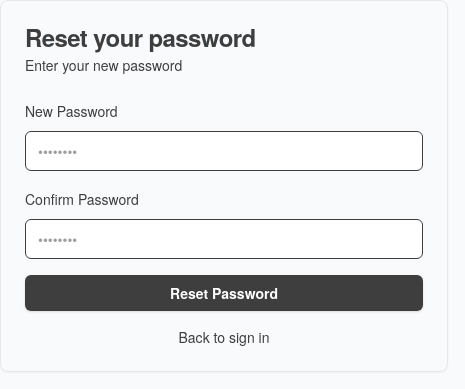
Test: ResetPasswordForm Component › Form Submission › should show loading state during submission
This screenshot has width=465, height=389.
Type "Password123" into the password field labelled "New Password" at {"x": 224, "y": 151}, box [25,131,423,171]
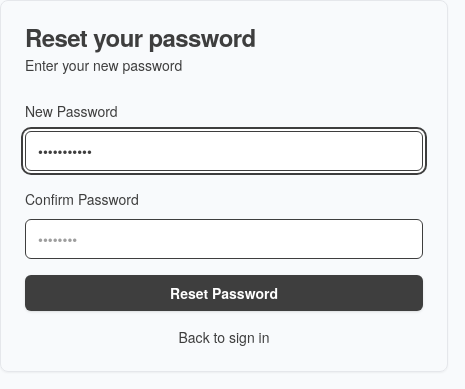
Type "Password123" into the password field labelled "Confirm Password" at {"x": 224, "y": 239}, box [25,219,423,259]
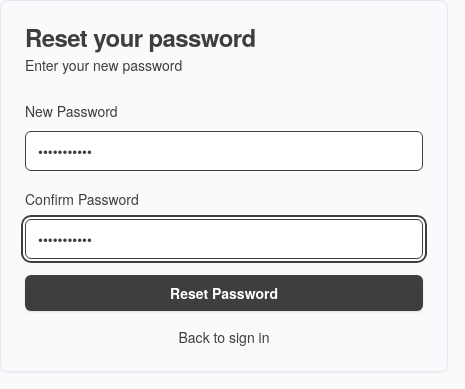
Click the button "Reset Password" at {"x": 224, "y": 293}, box [25,275,423,311]
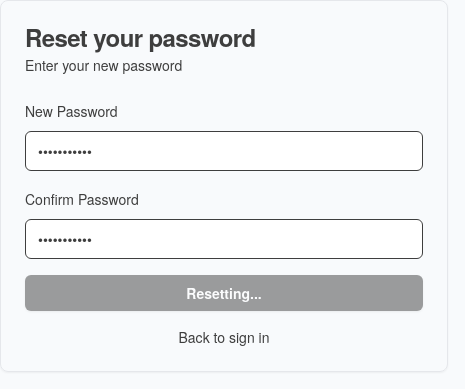
Result: the button "Resetting..." is disabled at [25,275,423,311]
